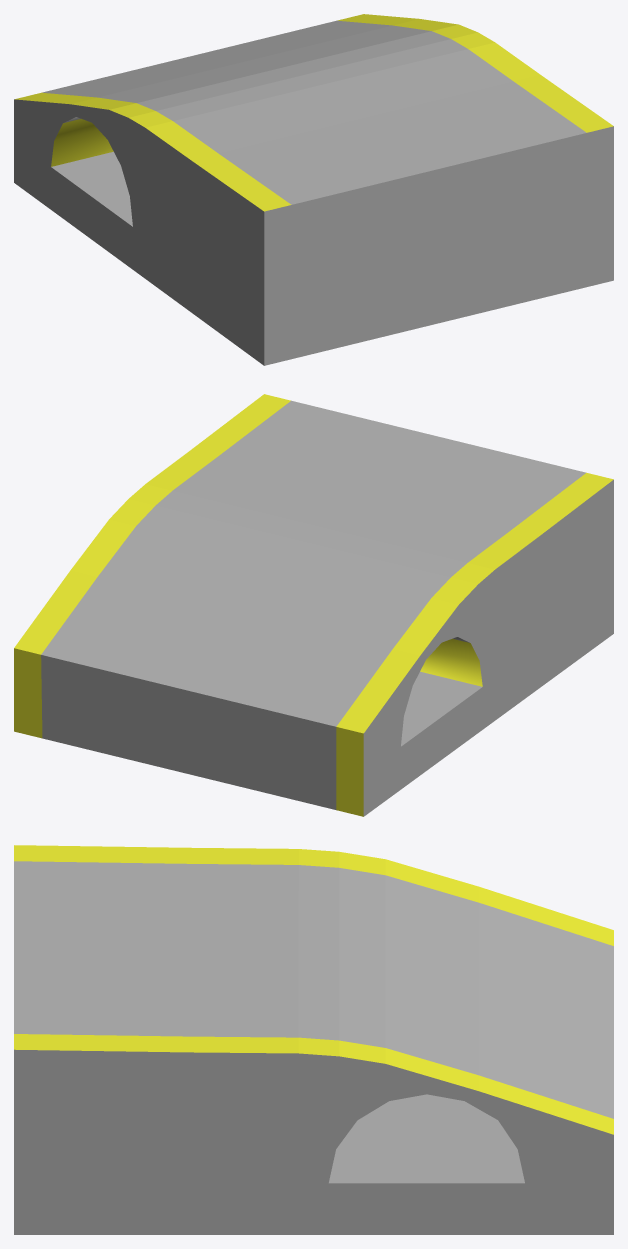
File: TowerAccessBridge.fbx
3 renders of one model, top to bottom at view 1: azimuth 30°, elevation 25°; view 2: azimuth 150°, elevation 25°; view 3: azimuth 270°, elevation 25°, orthographic. The views are drawn at different scales.
Visible parts, largest first — view 1: TowerAccessBridge; view 2: TowerAccessBridge; view 3: TowerAccessBridge.
Boxes of the visible parts, x1,y1,x2,y2 form: TowerAccessBridge: [14, 14, 613, 365]; TowerAccessBridge: [14, 394, 613, 816]; TowerAccessBridge: [14, 845, 613, 1234].
Bounding box in the file's own units: 88.53 × 110 × 37.33.
